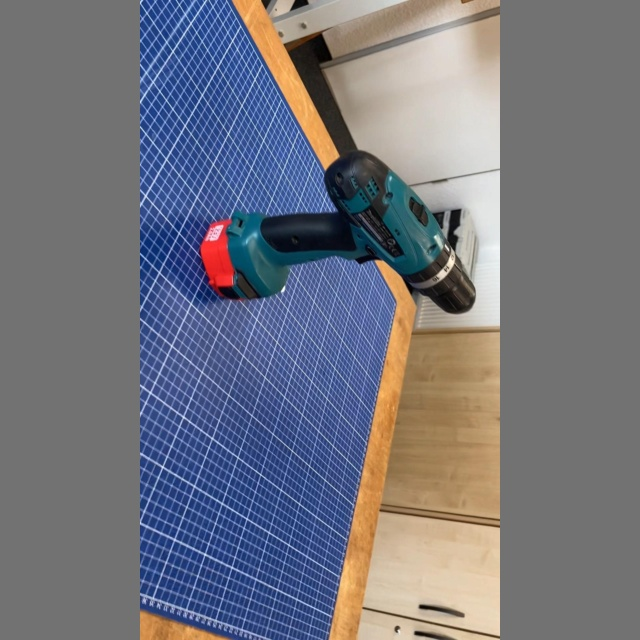drill: (195, 144, 482, 319)
